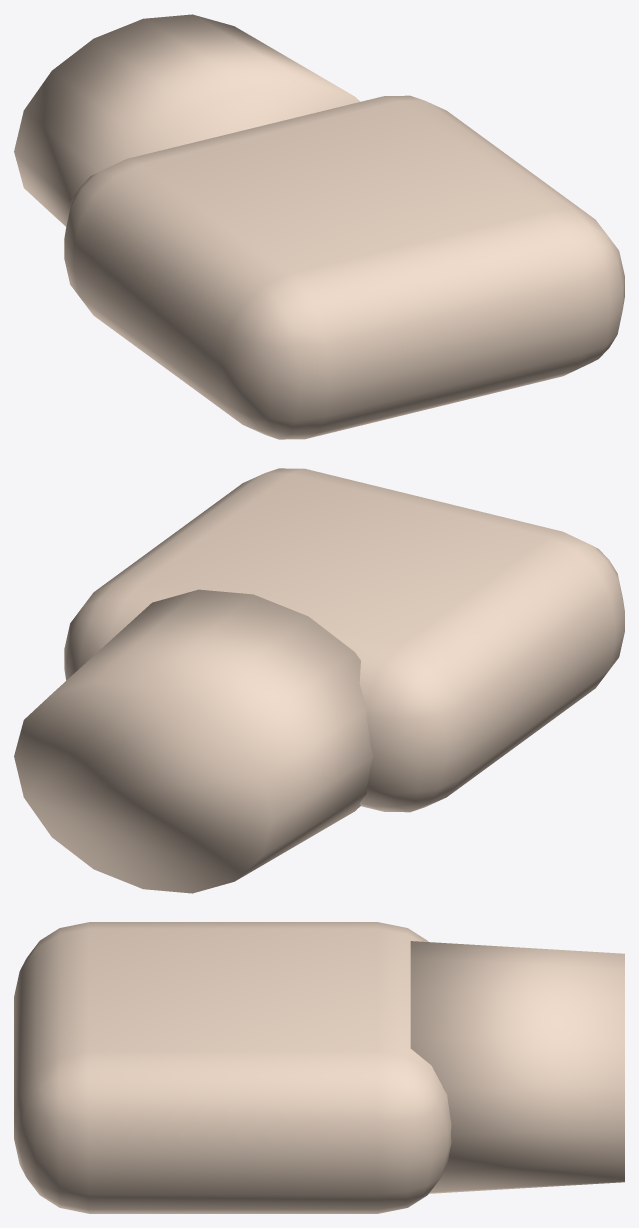
The model's file is hand_palm.fbx.
The picture shows the model from 3 angles, top to bottom: view 1: azimuth 30°, elevation 25°; view 2: azimuth 150°, elevation 25°; view 3: azimuth 270°, elevation 25°; orthographic projection. The views are drawn at different scales.
Visible parts, largest first — view 1: hand_palm; view 2: hand_palm; view 3: hand_palm.
Boxes of the visible parts, left/top/right/bottom form: hand_palm: left=14, top=14, right=624, bottom=439; hand_palm: left=14, top=468, right=624, bottom=893; hand_palm: left=14, top=922, right=624, bottom=1213.
Size of the model in its own units: 0.082 by 0.045 by 0.114.
